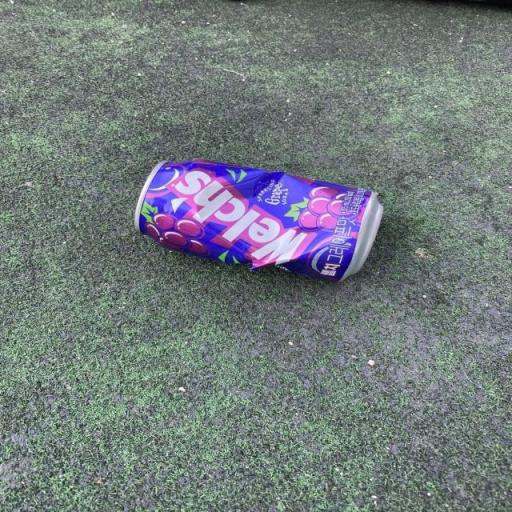metal: (114, 135, 422, 333)
